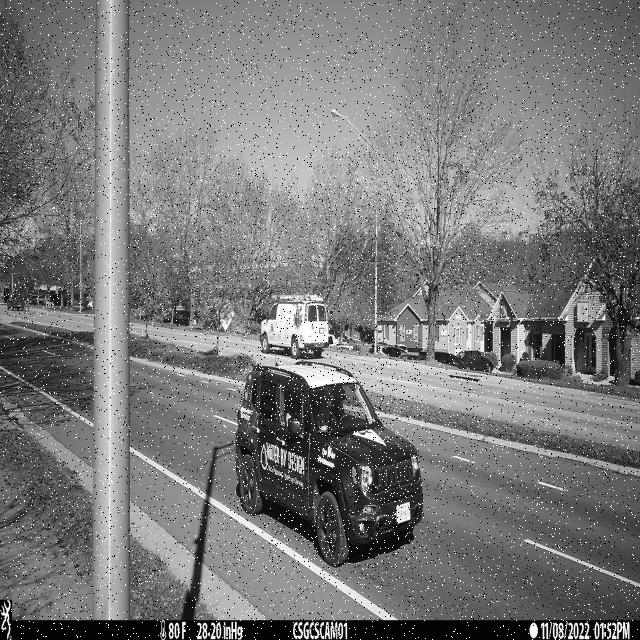SUV: (233, 361, 423, 569)
